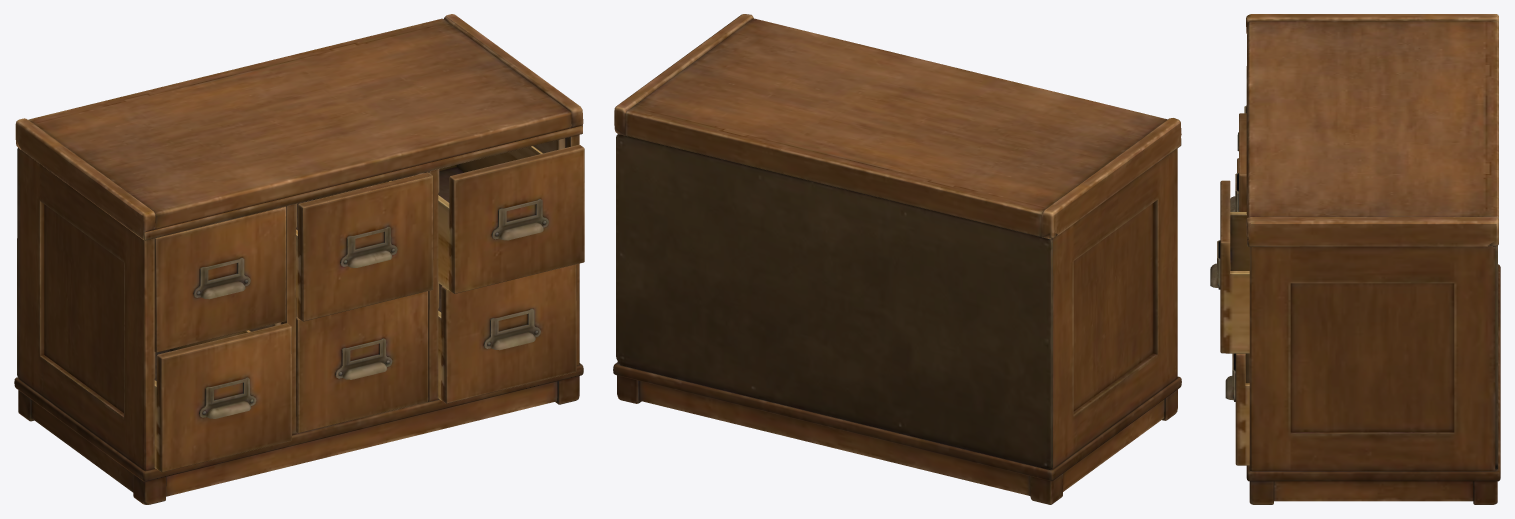
File: vintage_wooden_drawer_01.glb
3 views of the same model, side by side, from view 1: azimuth 30°, elevation 25°; view 2: azimuth 150°, elevation 25°; view 3: azimuth 270°, elevation 25° (orthographic). The views are drawn at different scales.
Parts seen in each view (by area): view 1: vintage_wooden_drawer_01; view 2: vintage_wooden_drawer_01; view 3: vintage_wooden_drawer_01.
Boxes of the visible parts, x1,y1,x2,y2 form: vintage_wooden_drawer_01: (14, 14, 584, 504); vintage_wooden_drawer_01: (613, 14, 1181, 504); vintage_wooden_drawer_01: (1210, 14, 1500, 504).
Bounding box in the file's own units: 1.72 × 1.09 × 1.01.
Materials: 1 (1 with a texture image).
